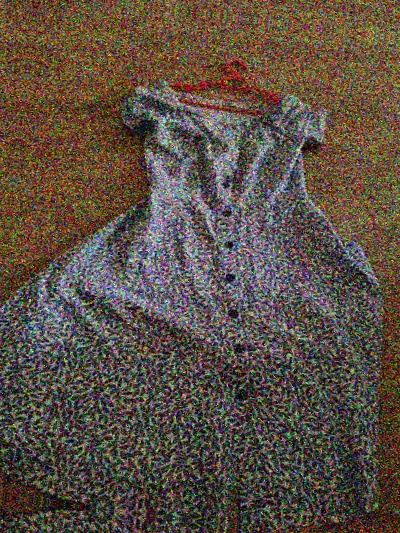Dress: (0, 38, 400, 533), (0, 0, 27, 481), (0, 506, 384, 533)
